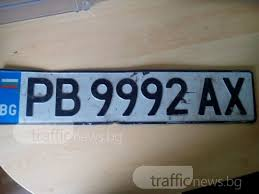registration_plate: (1, 70, 254, 127)
